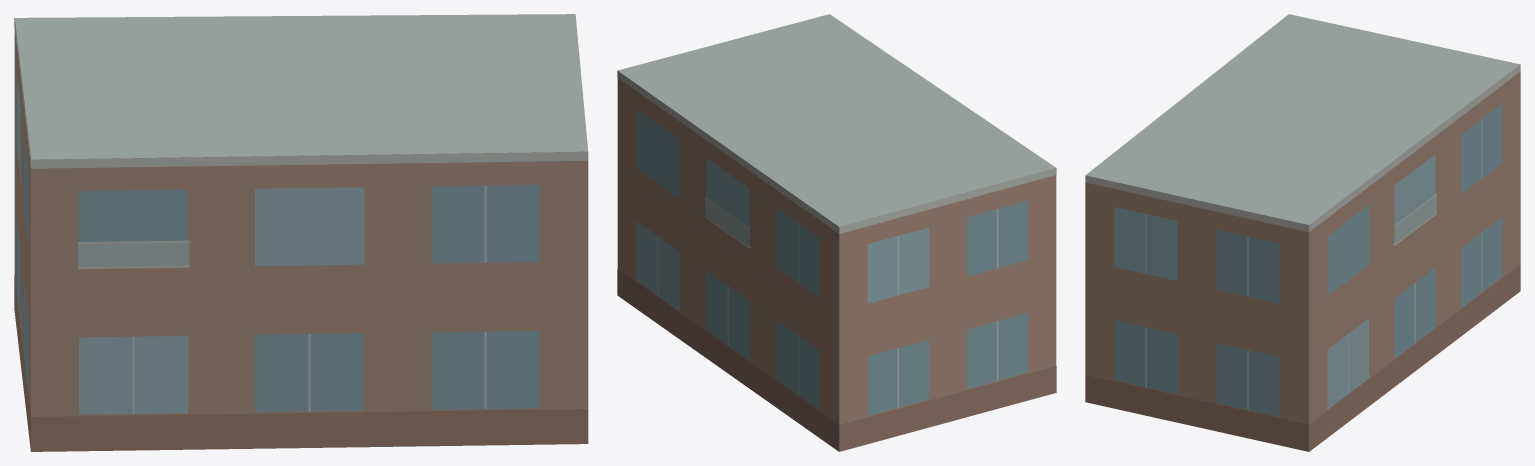
File: survey-upis-32490455.glb
The picture shows the model from 3 angles, left to right: view 1: azimuth 30°, elevation 25°; view 2: azimuth 150°, elevation 25°; view 3: azimuth 270°, elevation 25°; orthographic projection. The views are drawn at different scales.
Parts seen in each view (by area): view 1: survey-upis-32490455.tmp; view 2: survey-upis-32490455.tmp; view 3: survey-upis-32490455.tmp.
Part boxes in pixels (bbox=[...]): survey-upis-32490455.tmp: bbox=[14, 14, 588, 451]; survey-upis-32490455.tmp: bbox=[617, 14, 1056, 451]; survey-upis-32490455.tmp: bbox=[1085, 14, 1520, 451].
Size of the model in its own units: 15.58 by 7.8 by 13.58.
